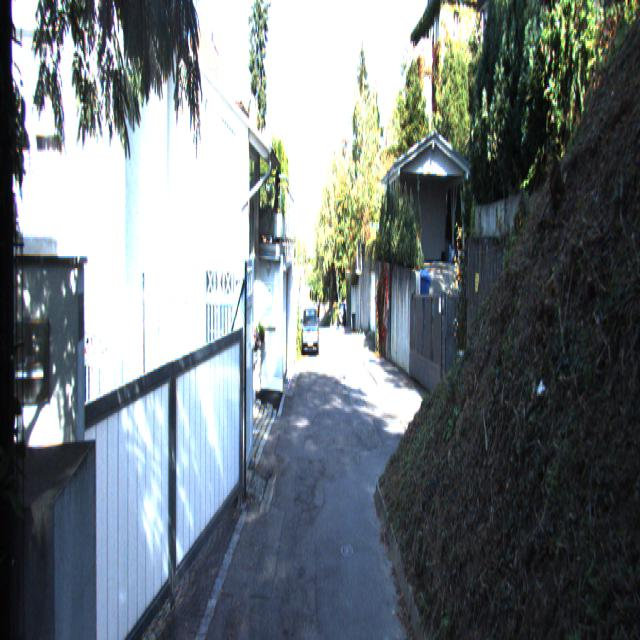Car: (301, 304, 319, 358)
